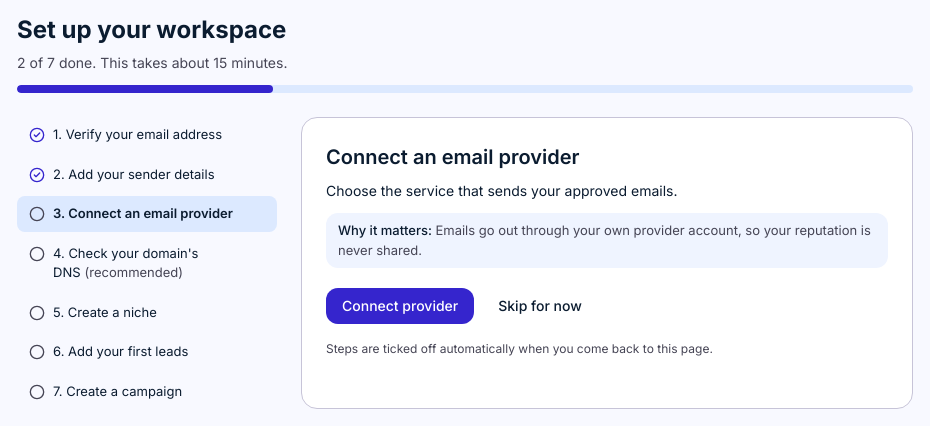
OnboardingWizard › opens on the first unfinished step and can skip ahead
The image size is (930, 426).
Expected: the heading "Connect an email provider" is shown, top-left (326, 145), bottom-right (580, 169)
Expected: the text "2 of 7 done. This takes about 15 minutes." is shown, top-left (17, 54), bottom-right (288, 71)
Click the button "Skip for now": [540, 306] box top-left (482, 288), bottom-right (598, 324)
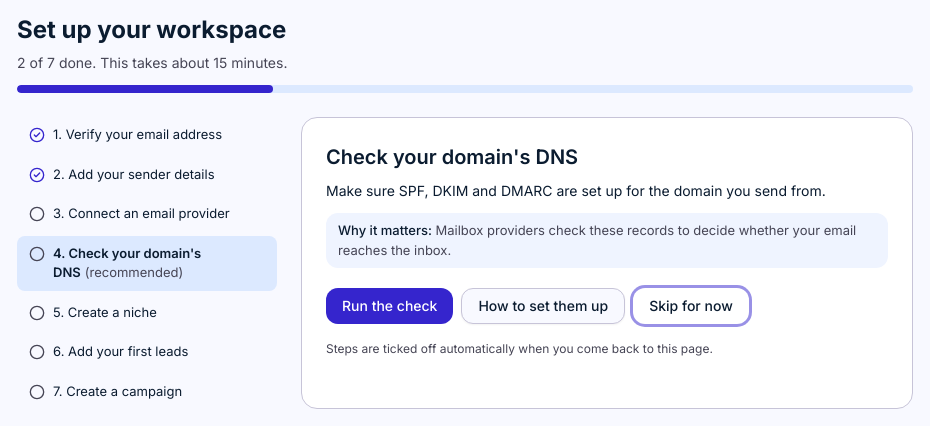
Expected: the heading "Check your domain's DNS" is shown, top-left (326, 145), bottom-right (578, 169)
Click the button "1. Verify your email address": [147, 135] box top-left (17, 117), bottom-right (277, 152)
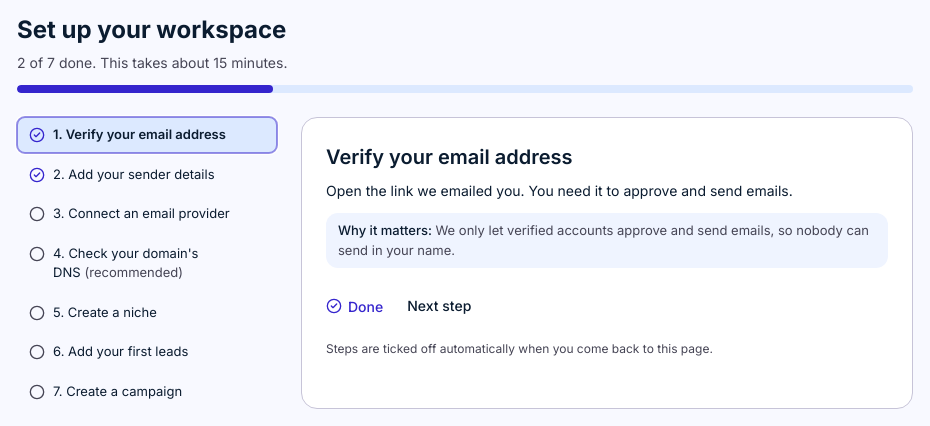
Expected: the heading "Verify your email address" is shown, top-left (326, 145), bottom-right (572, 169)
Expected: the text "Done" is shown, top-left (326, 298), bottom-right (383, 314)
